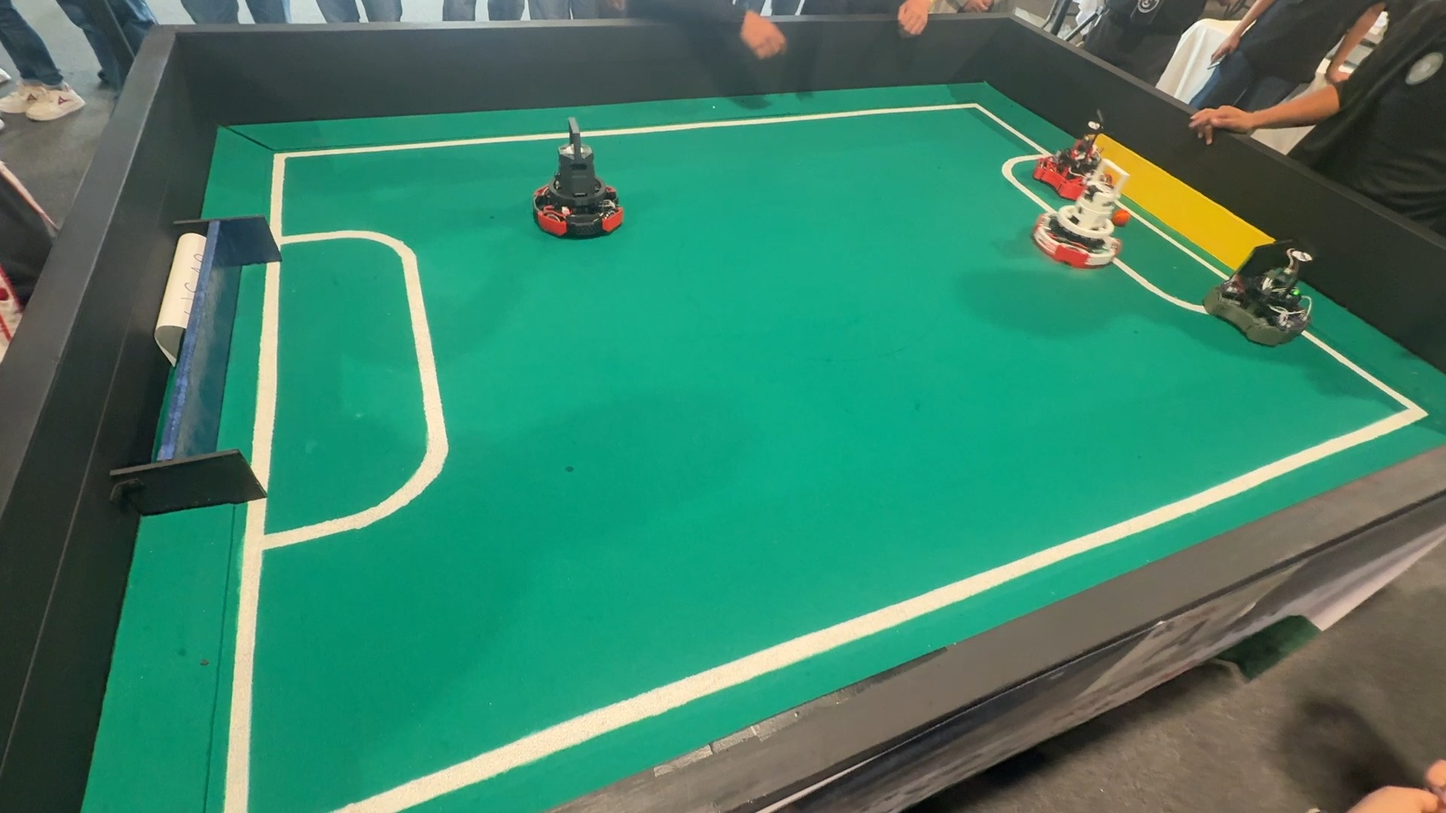Robot: (1191, 232, 1339, 359), (520, 116, 625, 250), (1029, 169, 1132, 273), (1039, 108, 1102, 193)
pelota: (1115, 208, 1130, 228)
